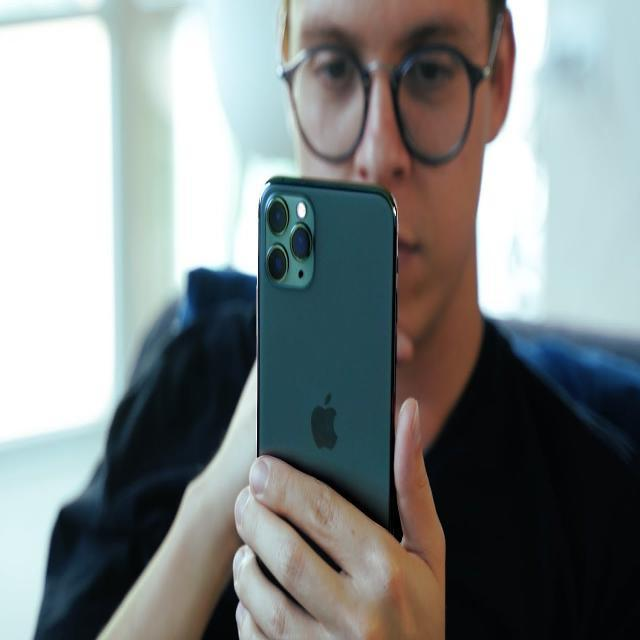phone: (256, 174, 400, 640)
